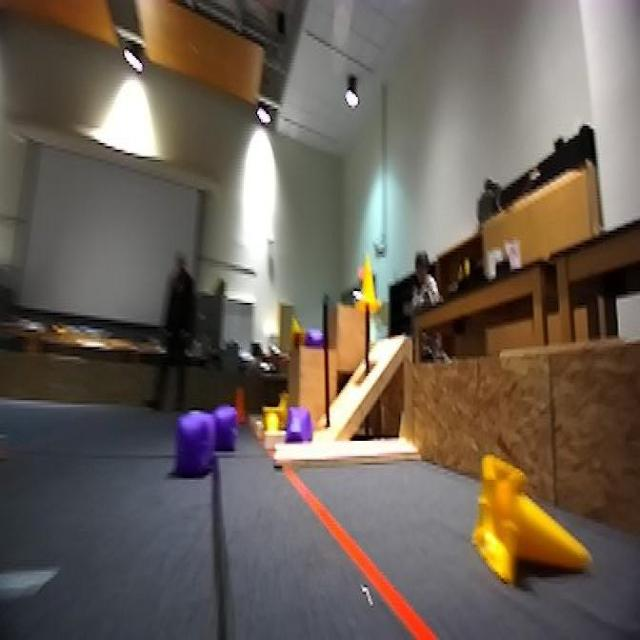frc_cone: (480, 442, 602, 596), (354, 248, 380, 310), (261, 408, 287, 438)
frc_cube: (172, 416, 216, 472), (210, 404, 240, 454), (283, 405, 309, 441), (298, 322, 329, 347)
